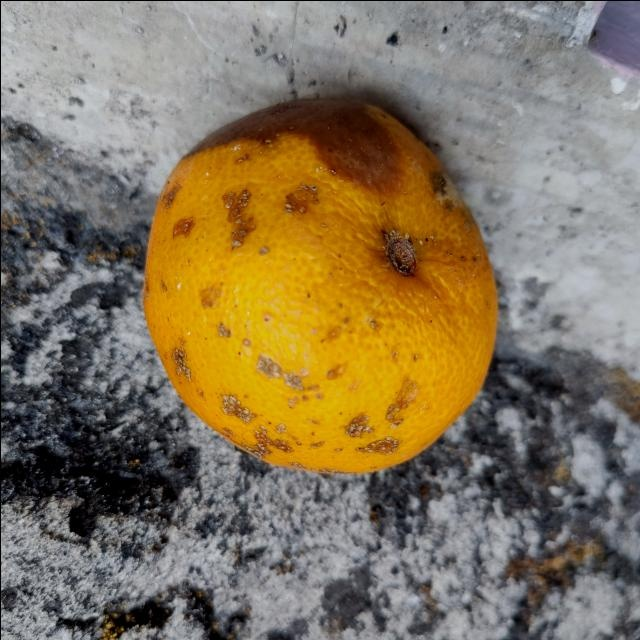agrume: (140, 94, 496, 474)
